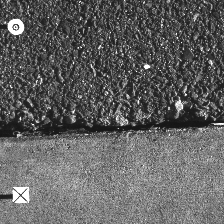circle: (7, 18, 24, 34)
crack: (1, 114, 223, 140)
square: (12, 187, 29, 203)
